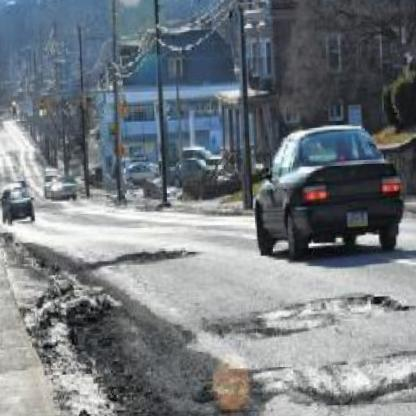pothole: (289, 335, 416, 405), (250, 289, 416, 339), (109, 246, 201, 266)
